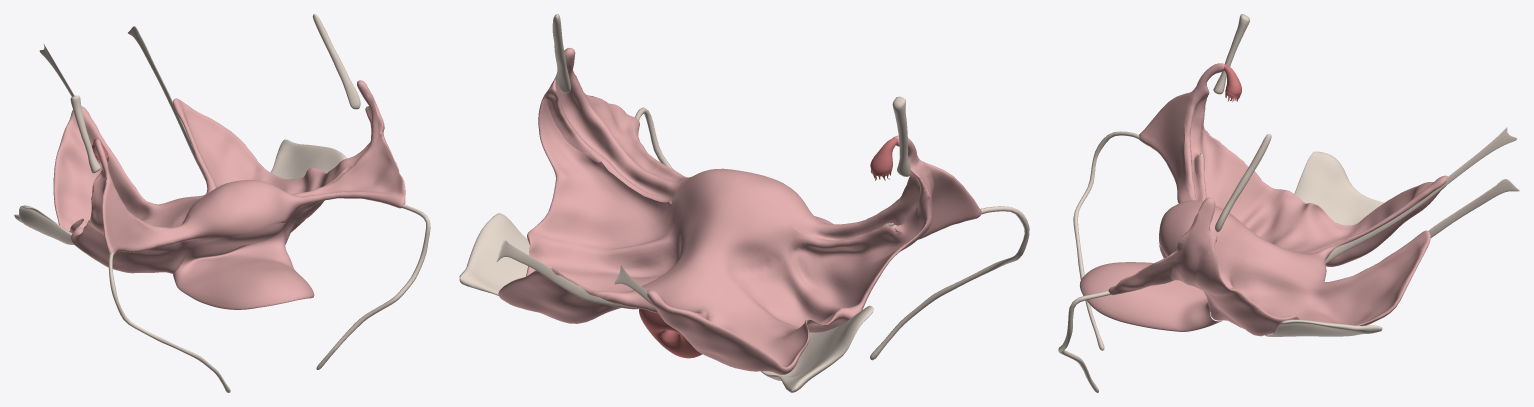
File: 3d-vh-f-ovary-r-landmark.glb
The picture shows the model from 3 angles, left to right: view 1: azimuth 30°, elevation 25°; view 2: azimuth 150°, elevation 25°; view 3: azimuth 270°, elevation 25°; orthographic projection. The views are drawn at different scales.
Visible parts, largest first — view 1: VH_F_ovary_R_landmark_ligaments_of_uterus_and_ovaries; view 2: VH_F_ovary_R_landmark_ligaments_of_uterus_and_ovaries, VH_F_ovary_R_landmark_uterus, VH_F_ovary_R_landmark_fallopian_tube; view 3: VH_F_ovary_R_landmark_ligaments_of_uterus_and_ovaries, VH_F_ovary_R_landmark_fallopian_tube.
Part boxes in pixels (x1,y1,x2,y2): VH_F_ovary_R_landmark_ligaments_of_uterus_and_ovaries: (14,14,430,392); VH_F_ovary_R_landmark_ligaments_of_uterus_and_ovaries: (459,14,1029,392); VH_F_ovary_R_landmark_uterus: (639,308,702,358); VH_F_ovary_R_landmark_fallopian_tube: (870,137,898,180); VH_F_ovary_R_landmark_ligaments_of_uterus_and_ovaries: (1058,14,1519,392); VH_F_ovary_R_landmark_fallopian_tube: (1223,64,1241,101).
Bounding box in the file's own units: 0.1471 × 0.1234 × 0.1706.
